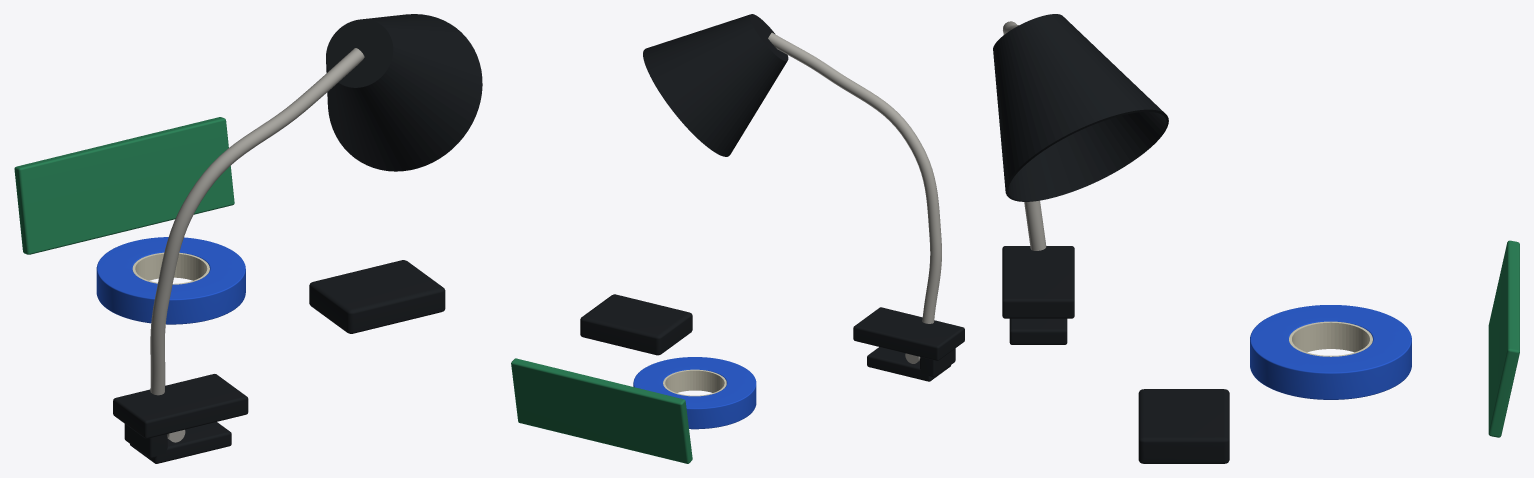
The model's file is model-061243ddf9fa.glb.
The picture shows the model from 3 angles, left to right: view 1: azimuth 30°, elevation 25°; view 2: azimuth 150°, elevation 25°; view 3: azimuth 270°, elevation 25°; orthographic projection. The views are drawn at different scales.
Parts seen in each view (by area): view 1: study_clip_lamp_open_tapered_shade, study_observed_green_rectangular_board_candidate, study_observed_blue_tape_roll, study_observed_black_power_adapter, study_clip_lamp_photo_observed_flexneck, study_clip_lamp_upper_jaw, study_clip_lamp_lower_jaw_inferred, study_tape_cardboard_inner_core, study_clip_lamp_rear_bridge_inferred; view 2: study_clip_lamp_open_tapered_shade, study_observed_green_rectangular_board_candidate, study_observed_blue_tape_roll, study_observed_black_power_adapter, study_clip_lamp_photo_observed_flexneck, study_clip_lamp_upper_jaw, study_tape_cardboard_inner_core, study_clip_lamp_lower_jaw_inferred, study_clip_lamp_rear_bridge_inferred; view 3: study_clip_lamp_open_tapered_shade, study_observed_blue_tape_roll, study_observed_black_power_adapter, study_clip_lamp_upper_jaw, study_observed_green_rectangular_board_candidate, study_tape_cardboard_inner_core, study_clip_lamp_lower_jaw_inferred, study_clip_lamp_photo_observed_flexneck.
Boxes of the visible parts, box(x1,y1,x2,y2) form: study_clip_lamp_open_tapered_shade: box(326, 14, 482, 171); study_observed_green_rectangular_board_candidate: box(14, 117, 234, 254); study_observed_blue_tape_roll: box(96, 237, 245, 324); study_observed_black_power_adapter: box(309, 260, 445, 333); study_clip_lamp_photo_observed_flexneck: box(150, 48, 364, 395); study_clip_lamp_upper_jaw: box(113, 374, 248, 438); study_clip_lamp_lower_jaw_inferred: box(130, 422, 231, 463); study_tape_cardboard_inner_core: box(132, 252, 209, 284); study_clip_lamp_rear_bridge_inferred: box(124, 424, 167, 458); study_clip_lamp_open_tapered_shade: box(643, 14, 788, 156); study_observed_green_rectangular_board_candidate: box(511, 358, 692, 463); study_observed_blue_tape_roll: box(633, 357, 756, 429); study_observed_black_power_adapter: box(580, 294, 692, 355); study_clip_lamp_photo_observed_flexneck: box(768, 32, 941, 323); study_clip_lamp_upper_jaw: box(853, 307, 964, 360); study_tape_cardboard_inner_core: box(663, 369, 726, 396); study_clip_lamp_lower_jaw_inferred: box(867, 347, 950, 381); study_clip_lamp_rear_bridge_inferred: box(920, 348, 955, 377); study_clip_lamp_open_tapered_shade: box(993, 14, 1168, 201); study_observed_blue_tape_roll: box(1250, 305, 1411, 399); study_observed_black_power_adapter: box(1138, 389, 1229, 463); study_clip_lamp_upper_jaw: box(1002, 246, 1074, 318); study_observed_green_rectangular_board_candidate: box(1488, 240, 1519, 437); study_tape_cardboard_inner_core: box(1289, 321, 1372, 356); study_clip_lamp_lower_jaw_inferred: box(1009, 318, 1067, 344); study_clip_lamp_photo_observed_flexneck: box(1003, 21, 1046, 250).
Bounding box in the file's own units: 0.316 × 0.3133 × 0.3641.
